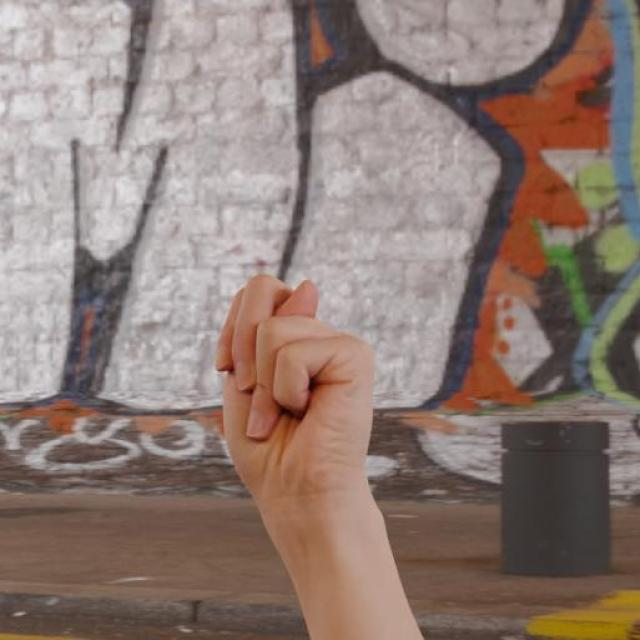N: (212, 273, 379, 512)
